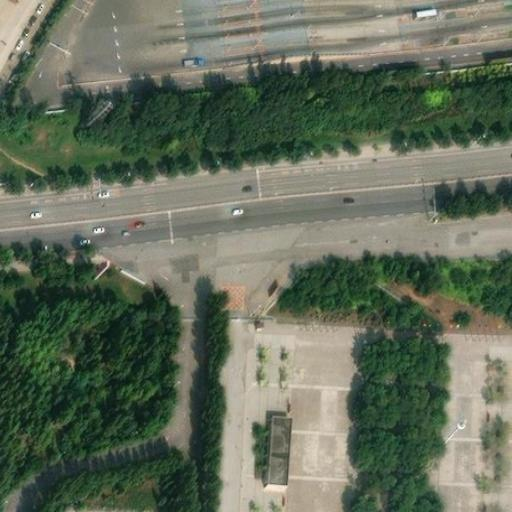building: (268, 409, 292, 477)
